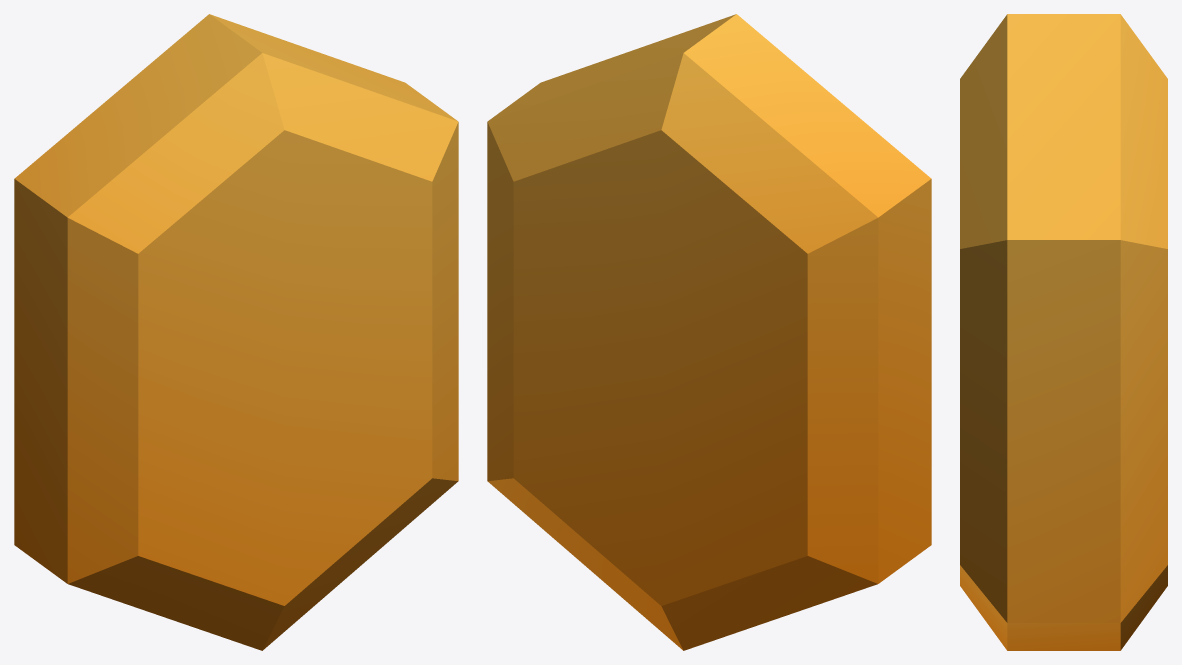
File: Gem_5.fbx
3 views of the same model, side by side, from view 1: azimuth 30°, elevation 25°; view 2: azimuth 150°, elevation 25°; view 3: azimuth 270°, elevation 25° (orthographic). The views are drawn at different scales.
Visible parts, largest first — view 1: Gem_5; view 2: Gem_5; view 3: Gem_5.
Part boxes in pixels (x1=…): Gem_5: x1=14, y1=14, x2=458, y2=650; Gem_5: x1=487, y1=14, x2=931, y2=650; Gem_5: x1=960, y1=14, x2=1167, y2=650.
Bounding box in the file's own units: 0.1485 × 0.217 × 0.0642.
